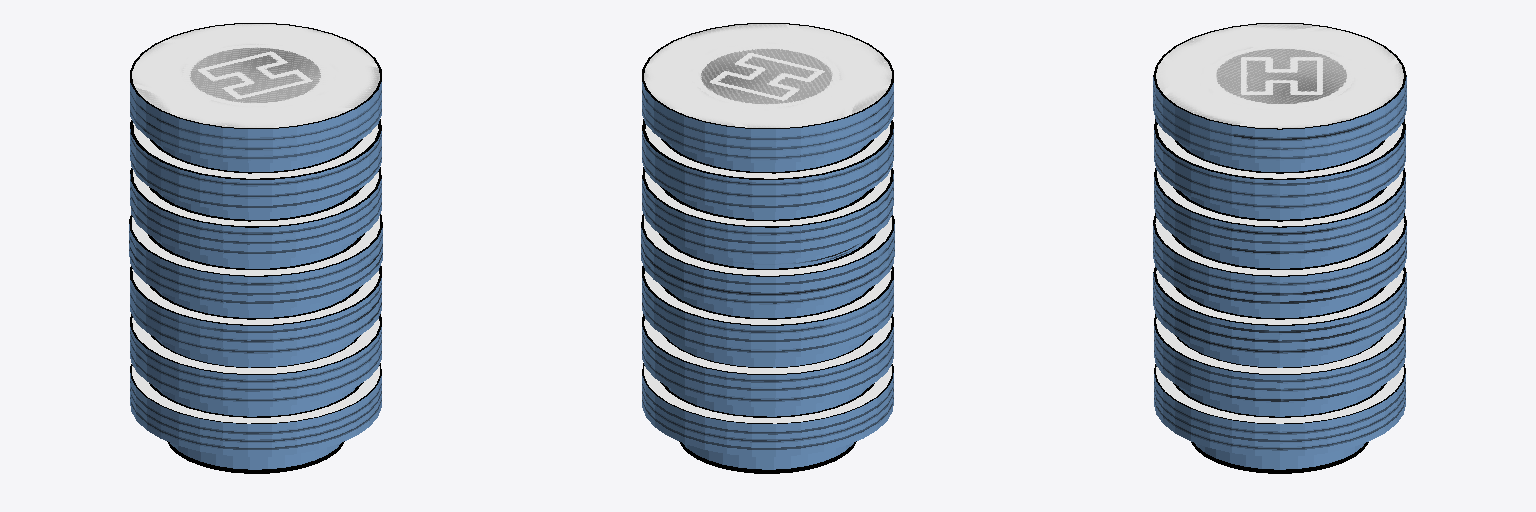
The picture shows the model from 3 angles: view 1: azimuth 30°, elevation 25°; view 2: azimuth 150°, elevation 25°; view 3: azimuth 270°, elevation 25°; orthographic projection.
Parts seen in each view (by area): view 1: Cylinder, Cycles_Cylinder.001; view 2: Cylinder, Cycles_Cylinder.001; view 3: Cylinder, Cycles_Cylinder.001.
Boxes of the visible parts, box(x1,y1,x2,y2) form: Cylinder: box(129, 24, 382, 469); Cycles_Cylinder.001: box(129, 23, 382, 473); Cylinder: box(641, 24, 894, 469); Cycles_Cylinder.001: box(641, 23, 894, 473); Cylinder: box(1153, 24, 1406, 469); Cycles_Cylinder.001: box(1153, 23, 1406, 473).
Bounding box in the file's own units: 14.07 × 21.98 × 14.07.
Materials: 1 (1 with a texture image).